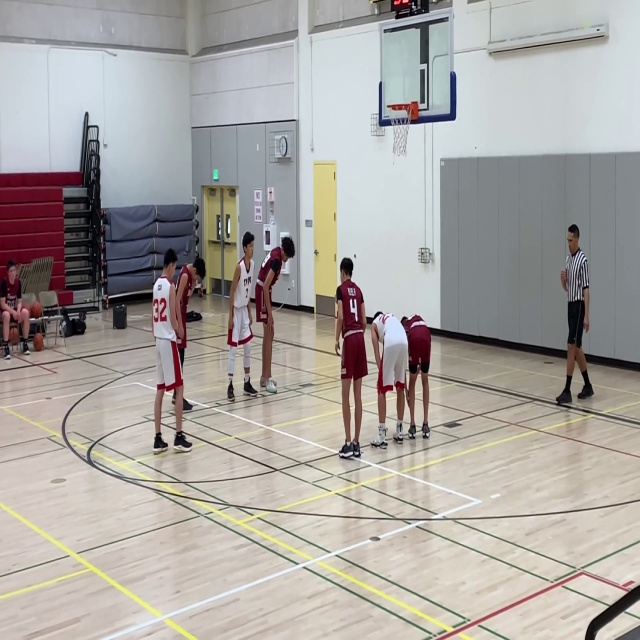Basketball: (29, 301, 42, 318), (33, 333, 44, 351)
